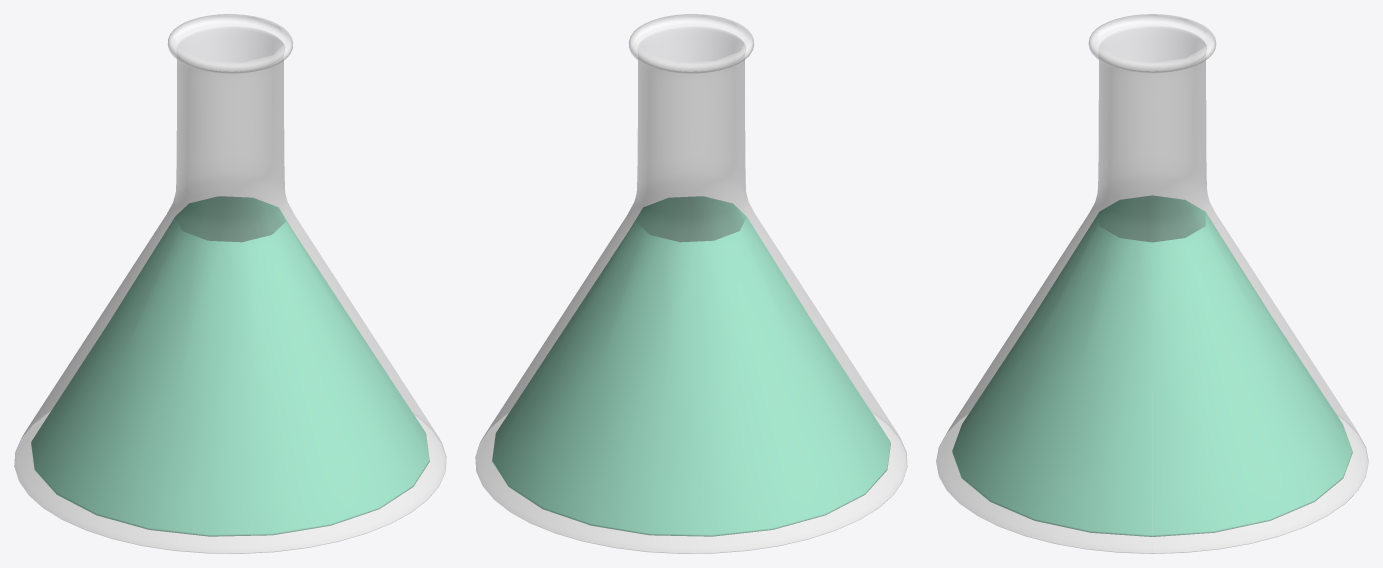
The model's file is triangle_beaker.fbx.
The picture shows the model from 3 angles, left to right: view 1: azimuth 30°, elevation 25°; view 2: azimuth 150°, elevation 25°; view 3: azimuth 270°, elevation 25°; orthographic projection.
Parts seen in each view (by area): view 1: polySurface1, polySurface2; view 2: polySurface1, polySurface2; view 3: polySurface1, polySurface2.
Part boxes in pixels (x1,y1,x2,y2): polySurface1: [14, 14, 446, 553]; polySurface2: [31, 196, 429, 536]; polySurface1: [475, 14, 907, 553]; polySurface2: [492, 196, 890, 536]; polySurface1: [936, 14, 1368, 553]; polySurface2: [952, 195, 1352, 536].
Bounding box in the file's own units: 1.87 × 2.02 × 1.87.
